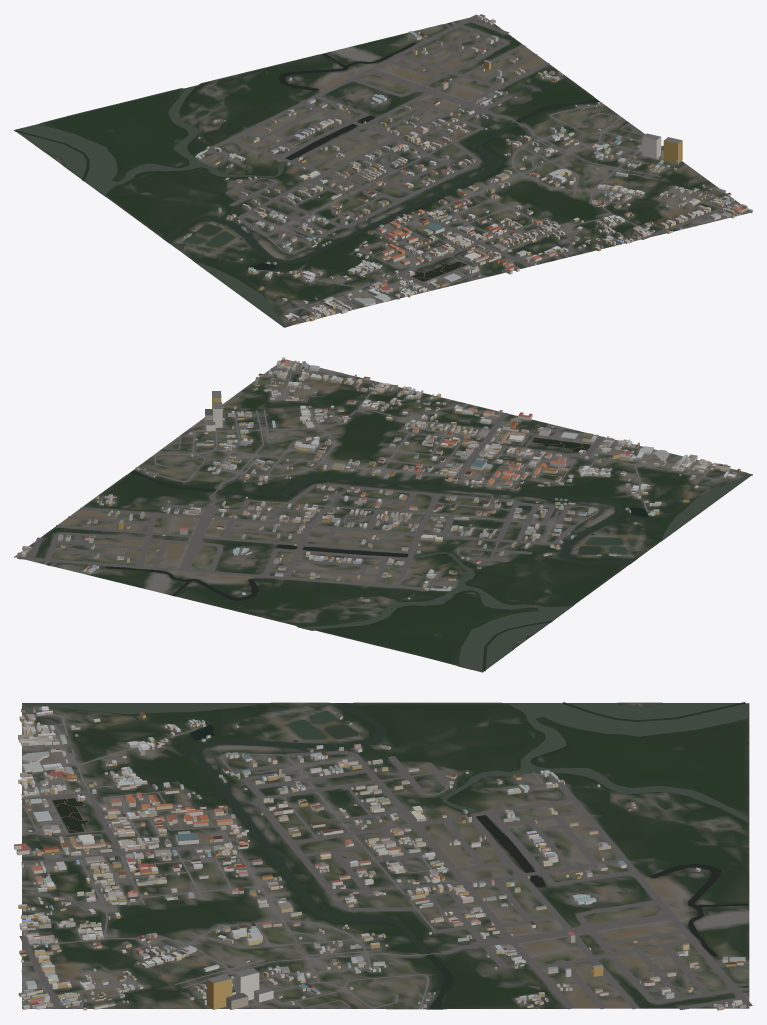
3 views of the same model, one above another, from view 1: azimuth 30°, elevation 25°; view 2: azimuth 150°, elevation 25°; view 3: azimuth 270°, elevation 25° (orthographic). The views are drawn at different scales.
Visible parts, largest first — view 1: ground, buildings, roads, water; view 2: ground, buildings, roads, water; view 3: ground, buildings, roads, water.
Boxes of the visible parts, bbox=[...] form: ground: bbox=[14, 15, 752, 327]; buildings: bbox=[183, 14, 752, 324]; roads: bbox=[202, 14, 739, 318]; water: bbox=[15, 23, 599, 327]; ground: bbox=[14, 359, 752, 672]; buildings: bbox=[17, 357, 740, 601]; roads: bbox=[17, 365, 719, 589]; water: bbox=[47, 437, 751, 671]; ground: bbox=[22, 702, 749, 1009]; buildings: bbox=[14, 706, 746, 1010]; roads: bbox=[19, 715, 752, 1009]; water: bbox=[22, 702, 748, 1008].
Size of the model in its own units: 1412 by 62.86 by 1423.
